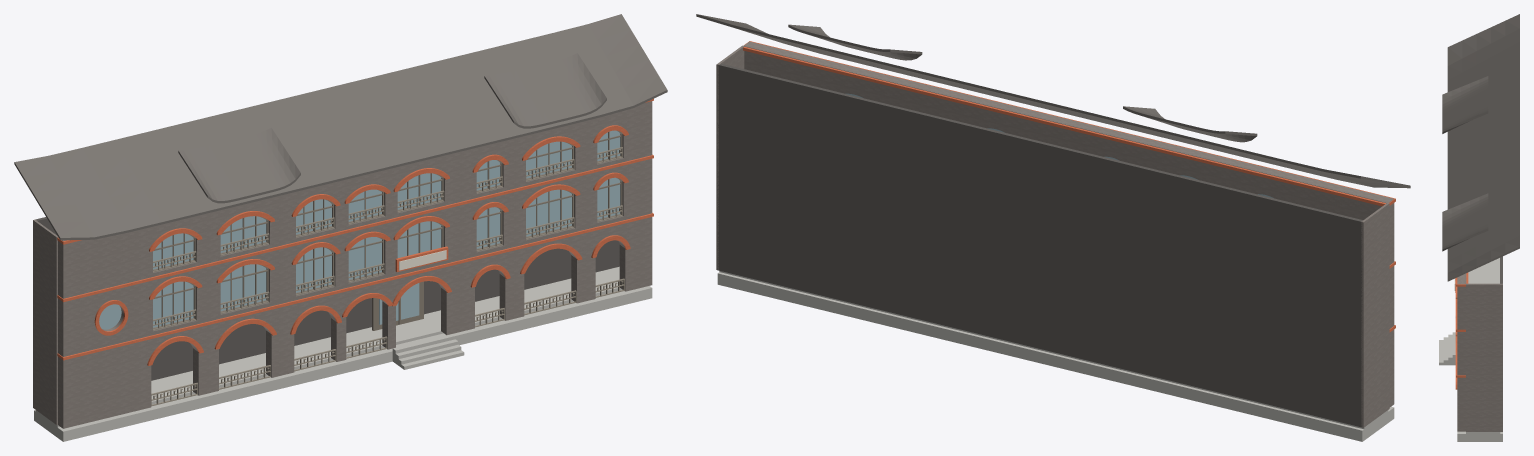
The model's file is full-source.glb.
3 views of the same model, side by side, from view 1: azimuth 30°, elevation 25°; view 2: azimuth 150°, elevation 25°; view 3: azimuth 270°, elevation 25° (orthographic). The views are drawn at different scales.
Visible parts, largest first — view 1: 圣约翰大学科学馆（格致楼42号）西院券廊; view 2: 圣约翰大学科学馆（格致楼42号）西院券廊; view 3: 圣约翰大学科学馆（格致楼42号）西院券廊.
Part boxes in pixels (bbox=[...]): 圣约翰大学科学馆（格致楼42号）西院券廊: bbox=[14, 14, 667, 441]; 圣约翰大学科学馆（格致楼42号）西院券廊: bbox=[696, 14, 1410, 441]; 圣约翰大学科学馆（格致楼42号）西院券廊: bbox=[1439, 14, 1519, 441].
Size of the model in its own units: 33.85 by 13.48 by 4.96.
Materials: 9 (2 with a texture image).
